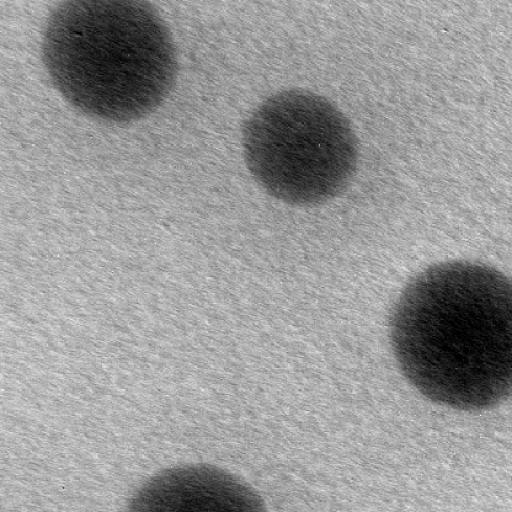Nanoparticles: (390, 259, 510, 406), (41, 0, 176, 118), (240, 89, 358, 202), (130, 462, 268, 510)
